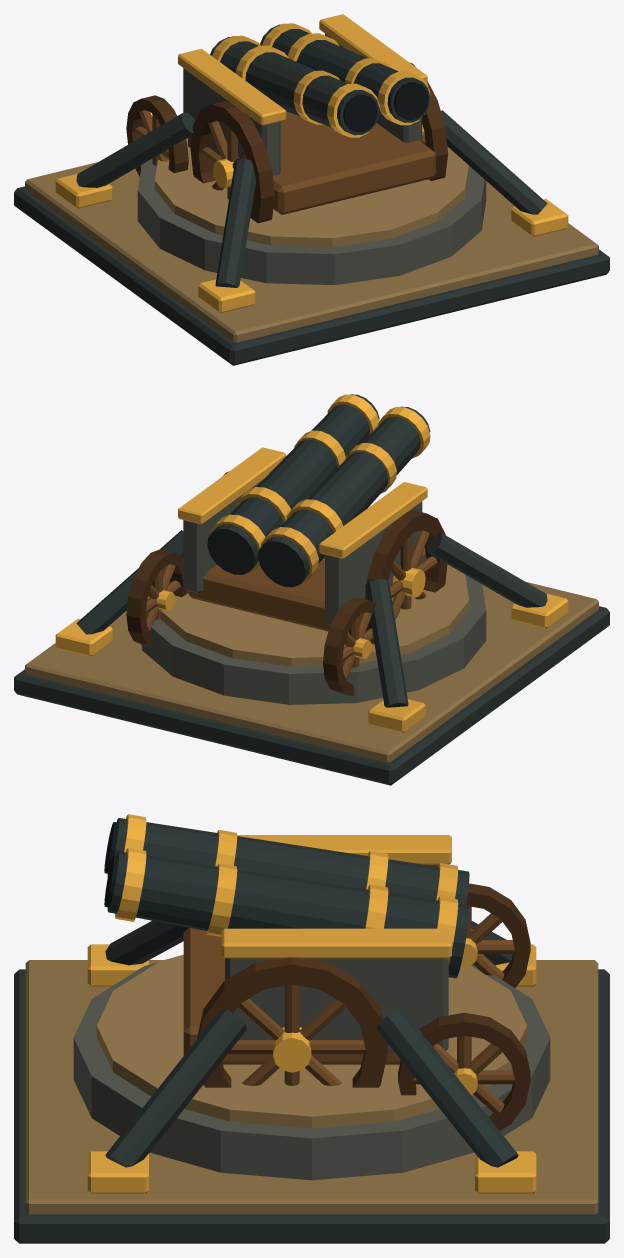
3 renders of one model, top to bottom at view 1: azimuth 30°, elevation 25°; view 2: azimuth 150°, elevation 25°; view 3: azimuth 270°, elevation 25°, orthographic. The views are drawn at different scales.
Visible parts, largest first — view 1: cannon_level5_structure, cannon_level5_metal; view 2: cannon_level5_structure, cannon_level5_metal; view 3: cannon_level5_structure, cannon_level5_metal.
Part boxes in pixels (left/top/right/bottom): cannon_level5_structure: left=14, top=24, right=609, bottom=365; cannon_level5_metal: left=55, top=14, right=568, bottom=313; cannon_level5_structure: left=14, top=394, right=609, bottom=785; cannon_level5_metal: left=55, top=394, right=568, bottom=732; cannon_level5_structure: left=14, top=818, right=609, bottom=1243; cannon_level5_metal: left=87, top=814, right=536, bottom=1193.
Size of the model in its own units: 3.6 by 1.9 by 3.6.
